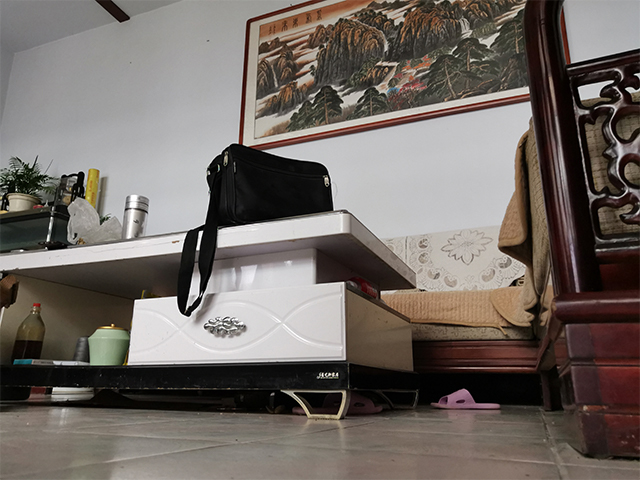slippers: (427, 387, 503, 411)
sofa: (372, 1, 639, 464)
table: (1, 206, 421, 421)
